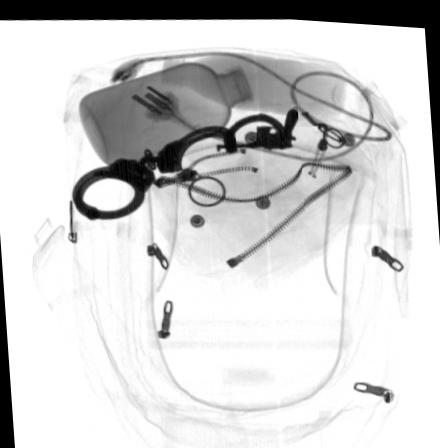Gun: (215, 102, 303, 147)
HandCuffs: (72, 109, 299, 218)
